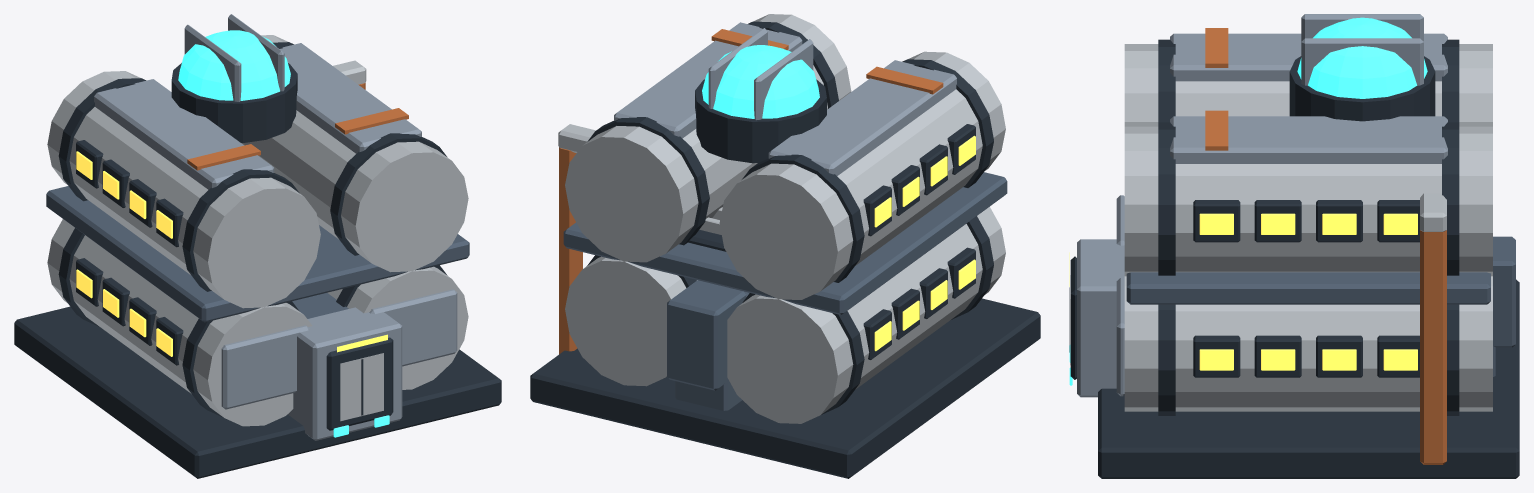
Rendered from crew_quarters.glb.
The picture shows the model from 3 angles, left to right: view 1: azimuth 30°, elevation 25°; view 2: azimuth 150°, elevation 25°; view 3: azimuth 270°, elevation 25°; orthographic projection. The views are drawn at different scales.
Parts seen in each view (by area): view 1: Mounting skid__Facility_crew_quarters_T1, Habitat -0.51 deck 1__Facility_crew_quarters_T2, Habitat 0.51 deck 1__Facility_crew_quarters_T2, Habitat -0.51 deck 0__Facility_crew_quarters_T1, Upper connecting deck__Facility_crew_quarters_T2, Dorsal armor -0.51 1__Facility_crew_quarters_T2, Entry vestibule__Facility_crew_quarters_T1, Dorsal armor 0.51 1__Facility_crew_quarters_T2, End plate -0.51__Facility_crew_quarters_T1, Observation cupola__Facility_crew_quarters_T2, Observation drum__Facility_crew_quarters_T2, Habitat 0.51 deck 0__Facility_crew_quarters_T1 (+21 smaller); view 2: Mounting skid__Facility_crew_quarters_T1, Habitat -0.51 deck 1__Facility_crew_quarters_T2, Habitat -0.51 deck 0__Facility_crew_quarters_T1, Habitat 0.51 deck 1__Facility_crew_quarters_T2, Habitat 0.51 deck 0__Facility_crew_quarters_T1, Upper connecting deck__Facility_crew_quarters_T2, Dorsal armor -0.51 1__Facility_crew_quarters_T2, Service manifold__Facility_crew_quarters_T1, Observation cupola__Facility_crew_quarters_T2, Observation drum__Facility_crew_quarters_T2, Dorsal armor 0.51 1__Facility_crew_quarters_T2, Shuttle davit post__Facility_crew_quarters_T2 (+20 smaller); view 3: Habitat 0.51 deck 1__Facility_crew_quarters_T2, Mounting skid__Facility_crew_quarters_T1, Habitat 0.51 deck 0__Facility_crew_quarters_T1, Dorsal armor 0.51 1__Facility_crew_quarters_T2, Upper connecting deck__Facility_crew_quarters_T2, Habitat -0.51 deck 1__Facility_crew_quarters_T2, Entry vestibule__Facility_crew_quarters_T1, Shuttle davit post__Facility_crew_quarters_T2, Dorsal armor -0.51 1__Facility_crew_quarters_T2, Observation cupola__Facility_crew_quarters_T2, Observation drum__Facility_crew_quarters_T2, Pressure collar 0.51 1 -0.74__Facility_crew_quarters_T2 (+29 smaller).
Part boxes in pixels (x1=…): Mounting skid__Facility_crew_quarters_T1: x1=14, y1=306, x2=501, y2=478; Habitat -0.51 deck 1__Facility_crew_quarters_T2: x1=47, y1=71, x2=320, y2=308; Habitat 0.51 deck 1__Facility_crew_quarters_T2: x1=241, y1=35, x2=468, y2=272; Habitat -0.51 deck 0__Facility_crew_quarters_T1: x1=47, y1=219, x2=312, y2=426; Upper connecting deck__Facility_crew_quarters_T2: x1=46, y1=186, x2=469, y2=322; Dorsal armor -0.51 1__Facility_crew_quarters_T2: x1=94, y1=79, x2=274, y2=189; Entry vestibule__Facility_crew_quarters_T1: x1=288, y1=307, x2=402, y2=440; Dorsal armor 0.51 1__Facility_crew_quarters_T2: x1=280, y1=43, x2=421, y2=153; End plate -0.51__Facility_crew_quarters_T1: x1=221, y1=325, x2=309, y2=409; Observation cupola__Facility_crew_quarters_T2: x1=178, y1=30, x2=290, y2=100; Observation drum__Facility_crew_quarters_T2: x1=171, y1=63, x2=297, y2=142; Habitat 0.51 deck 0__Facility_crew_quarters_T1: x1=327, y1=266, x2=468, y2=389; Mounting skid__Facility_crew_quarters_T1: x1=530, y1=298, x2=1040, y2=478; Habitat -0.51 deck 1__Facility_crew_quarters_T2: x1=719, y1=51, x2=1005, y2=299; Habitat -0.51 deck 0__Facility_crew_quarters_T1: x1=727, y1=206, x2=1005, y2=423; Habitat 0.51 deck 1__Facility_crew_quarters_T2: x1=565, y1=14, x2=851, y2=262; Habitat 0.51 deck 0__Facility_crew_quarters_T1: x1=565, y1=256, x2=697, y2=386; Upper connecting deck__Facility_crew_quarters_T2: x1=563, y1=172, x2=1007, y2=314; Dorsal armor -0.51 1__Facility_crew_quarters_T2: x1=768, y1=60, x2=956, y2=175; Service manifold__Facility_crew_quarters_T1: x1=667, y1=280, x2=746, y2=390; Observation cupola__Facility_crew_quarters_T2: x1=702, y1=45, x2=819, y2=118; Observation drum__Facility_crew_quarters_T2: x1=695, y1=79, x2=826, y2=163; Dorsal armor 0.51 1__Facility_crew_quarters_T2: x1=614, y1=22, x2=802, y2=138; Shuttle davit post__Facility_crew_quarters_T2: x1=559, y1=147, x2=582, y2=354; Habitat 0.51 deck 1__Facility_crew_quarters_T2: x1=1124, y1=126, x2=1492, y2=276; Mounting skid__Facility_crew_quarters_T1: x1=1098, y1=279, x2=1519, y2=478; Habitat 0.51 deck 0__Facility_crew_quarters_T1: x1=1124, y1=276, x2=1492, y2=411; Dorsal armor 0.51 1__Facility_crew_quarters_T2: x1=1170, y1=116, x2=1447, y2=163; Upper connecting deck__Facility_crew_quarters_T2: x1=1126, y1=272, x2=1490, y2=304; Habitat -0.51 deck 1__Facility_crew_quarters_T2: x1=1124, y1=44, x2=1492, y2=126; Entry vestibule__Facility_crew_quarters_T1: x1=1077, y1=239, x2=1124, y2=397; Shuttle davit post__Facility_crew_quarters_T2: x1=1420, y1=230, x2=1446, y2=464; Dorsal armor -0.51 1__Facility_crew_quarters_T2: x1=1170, y1=33, x2=1447, y2=81; Observation cupola__Facility_crew_quarters_T2: x1=1297, y1=17, x2=1427, y2=98; Observation drum__Facility_crew_quarters_T2: x1=1289, y1=56, x2=1435, y2=121; Pressure collar 0.51 1 -0.74__Facility_crew_quarters_T2: x1=1158, y1=122, x2=1175, y2=275.
Bounding box in the file's own units: 2.15 × 2.13 × 2.35.
